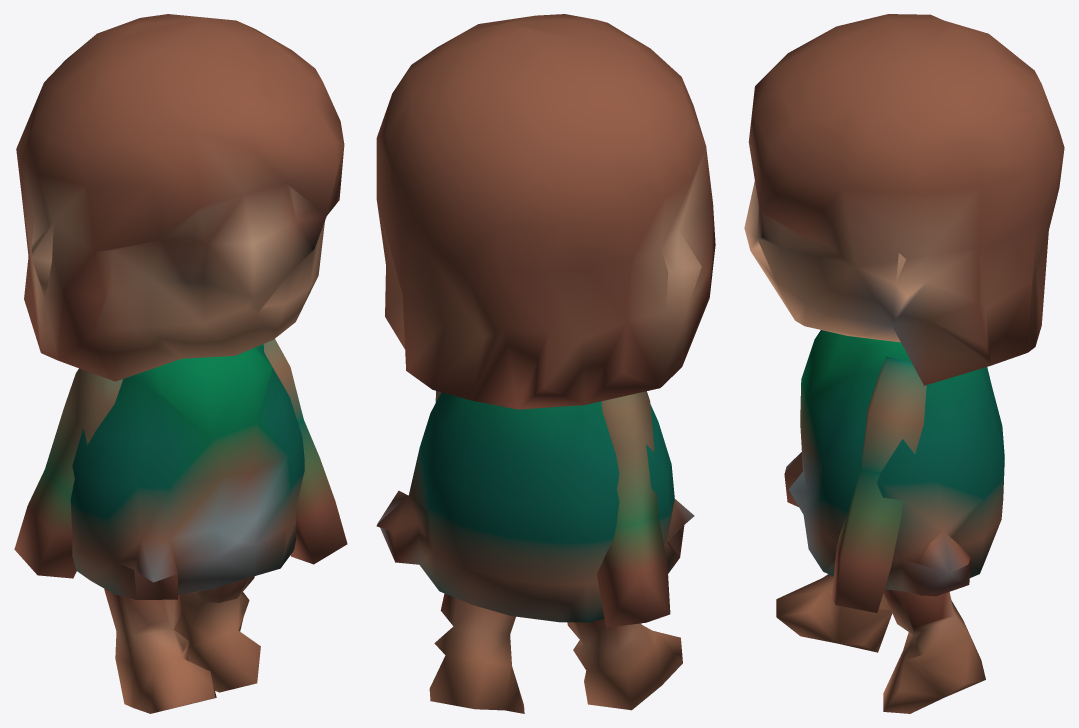
Rendered from char2-tre-2.glb.
The picture shows the model from 3 angles, left to right: view 1: azimuth 30°, elevation 25°; view 2: azimuth 150°, elevation 25°; view 3: azimuth 270°, elevation 25°; orthographic projection. The views are drawn at different scales.
Visible parts, largest first — view 1: char; view 2: char; view 3: char.
Boxes of the visible parts, bbox=[...] form: char: bbox=[14, 14, 347, 713]; char: bbox=[376, 14, 715, 713]; char: bbox=[744, 14, 1064, 713].
Size of the model in its own units: 0.7656 by 1.58 by 0.706.
